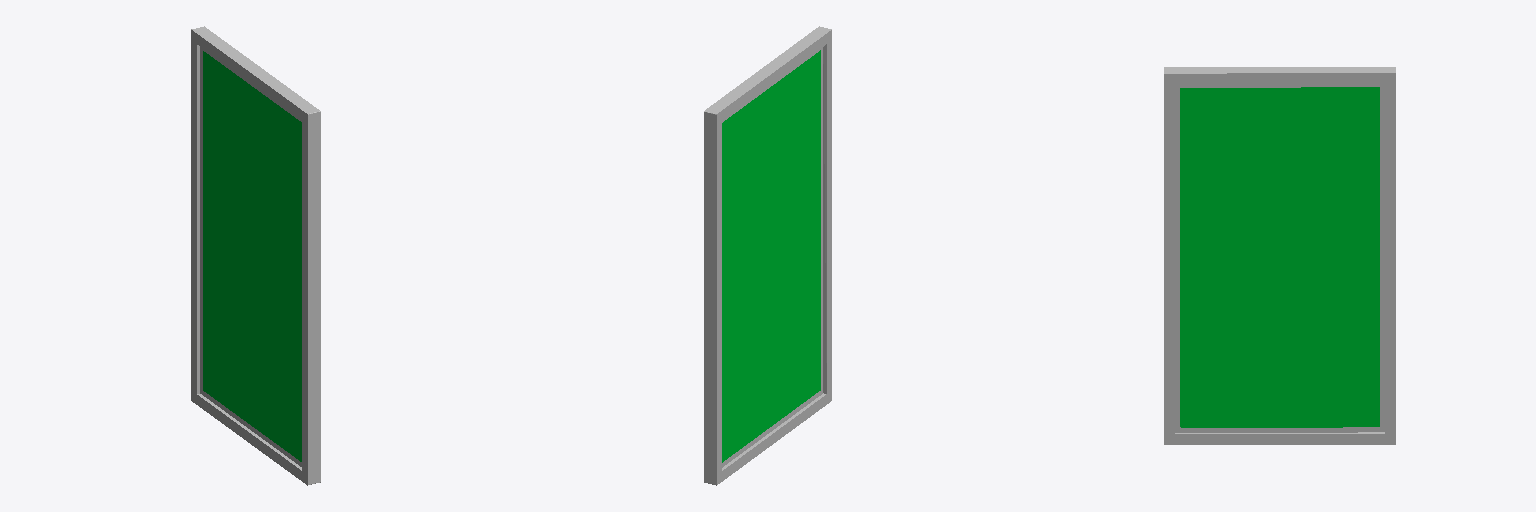
The model's file is window.obj.
The picture shows the model from 3 angles: view 1: azimuth 30°, elevation 25°; view 2: azimuth 150°, elevation 25°; view 3: azimuth 270°, elevation 25°; orthographic projection.
Parts seen in each view (by area): view 1: Plane.004, Plane.017; view 2: Plane.004, Plane.017; view 3: Plane.004, Plane.017.
Part boxes in pixels (x1,y1,x2,y2): Plane.004: (203, 51, 301, 461); Plane.017: (191, 26, 320, 485); Plane.004: (722, 50, 820, 462); Plane.017: (704, 26, 831, 485); Plane.004: (1180, 87, 1379, 427); Plane.017: (1164, 67, 1395, 444).
Size of the model in its own units: 0.0695 by 1.84 by 1.05.